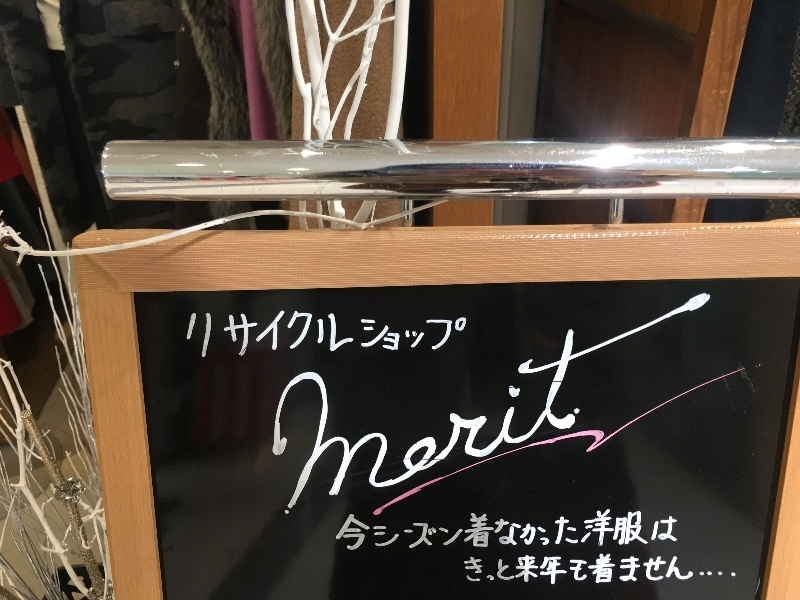text: (289, 289, 304, 533), (305, 289, 320, 533), (321, 289, 336, 533), (337, 289, 352, 533), (353, 289, 368, 533), (369, 289, 384, 533), (385, 289, 400, 533), (401, 289, 416, 533), (417, 289, 432, 533), (433, 289, 448, 533), (449, 289, 464, 533), (465, 289, 480, 533), (481, 289, 496, 533), (497, 289, 512, 533), (513, 289, 528, 533), (529, 289, 544, 533), (545, 289, 560, 533), (561, 289, 576, 533), (577, 289, 592, 533), (593, 289, 608, 533), (609, 289, 624, 533), (625, 289, 640, 533), (641, 289, 656, 533), (657, 289, 672, 533), (673, 289, 688, 533), (689, 289, 704, 533), (705, 289, 720, 533), (721, 289, 729, 533), (284, 289, 288, 533), (193, 307, 208, 359), (209, 307, 224, 359), (225, 307, 240, 359), (241, 307, 256, 359), (257, 307, 272, 359), (273, 307, 288, 359), (289, 307, 304, 359), (305, 307, 320, 359), (321, 307, 336, 359), (337, 307, 352, 359), (353, 307, 368, 359), (369, 307, 384, 359), (385, 307, 400, 359), (401, 307, 416, 359), (417, 307, 432, 359), (433, 307, 448, 359), (449, 307, 464, 359), (353, 510, 368, 557), (369, 510, 384, 557), (385, 510, 400, 557), (401, 510, 416, 557), (417, 510, 432, 557), (433, 510, 448, 557), (449, 510, 464, 557), (465, 510, 480, 557), (481, 510, 496, 557), (497, 510, 512, 557), (513, 510, 528, 557), (529, 510, 544, 557), (545, 510, 560, 557), (561, 510, 576, 557), (577, 510, 592, 557), (593, 510, 608, 557), (609, 510, 624, 557), (625, 510, 640, 557), (641, 510, 656, 557), (657, 510, 672, 557), (180, 307, 192, 359), (340, 510, 352, 557), (465, 554, 480, 587), (481, 554, 496, 587), (497, 554, 512, 587), (513, 554, 528, 587), (529, 554, 544, 587), (545, 554, 560, 587), (561, 554, 576, 587), (577, 554, 592, 587), (593, 554, 608, 587), (609, 554, 624, 587), (625, 554, 640, 587), (641, 554, 656, 587), (657, 554, 672, 587), (673, 554, 688, 587), (689, 554, 704, 587), (705, 554, 720, 587), (721, 554, 736, 587), (673, 510, 679, 557), (465, 307, 468, 359), (463, 554, 464, 587), (737, 554, 738, 587)
